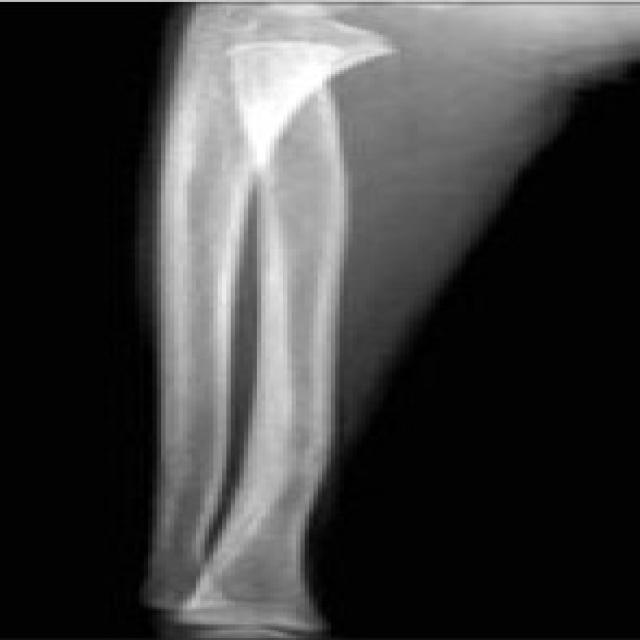Greenstick: (160, 6, 448, 166)
